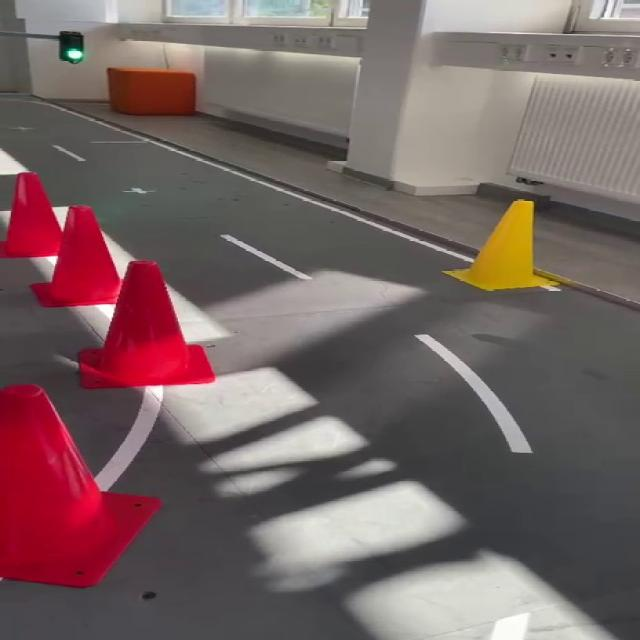Cone-red: (3, 174, 214, 388), (0, 385, 160, 587), (0, 385, 159, 587)
Cones-yellow: (444, 200, 570, 290)
